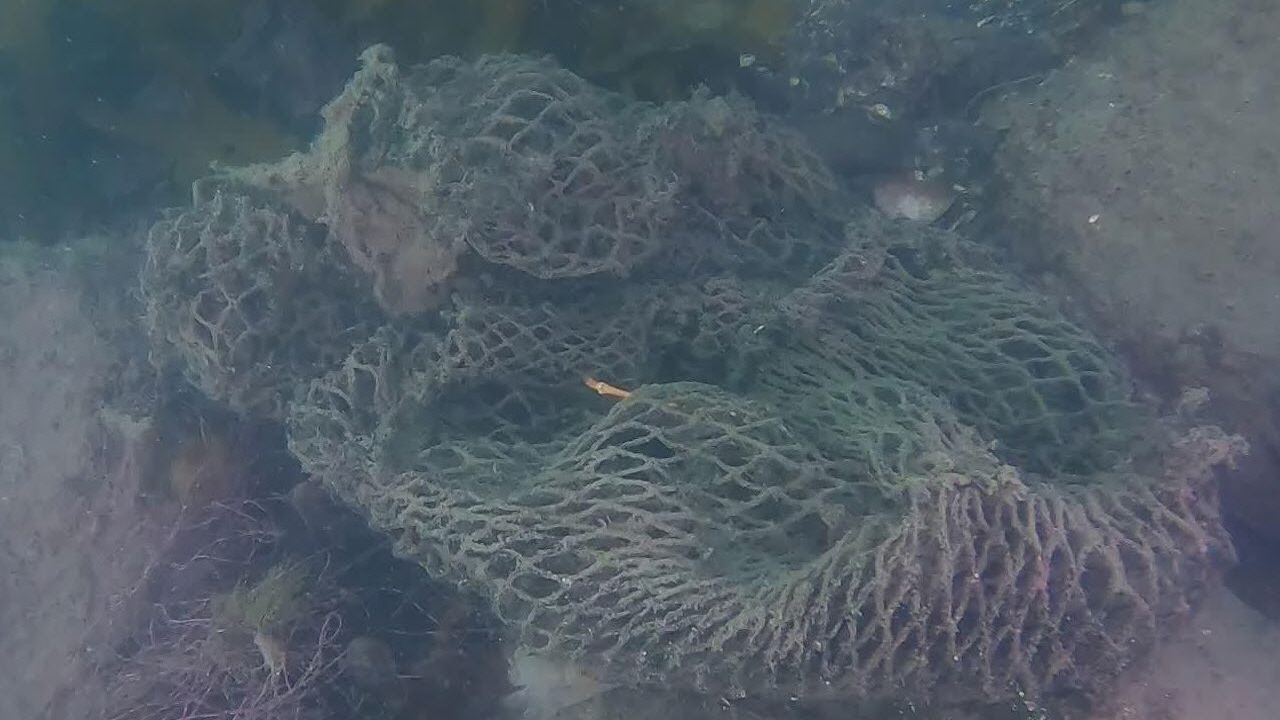fish net: (139, 42, 1239, 720)
